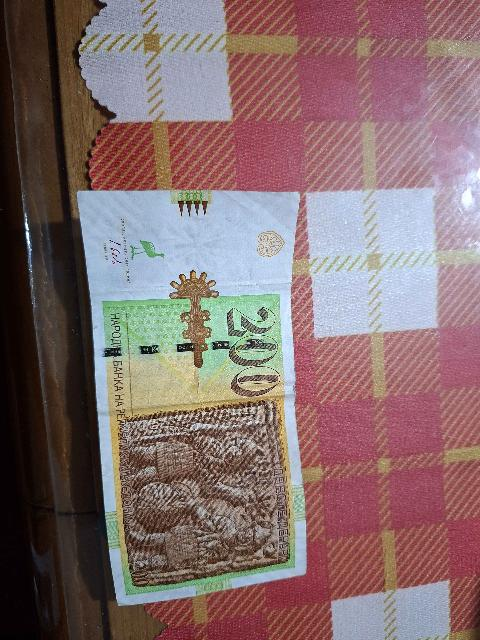200_note: (77, 190, 306, 604)
